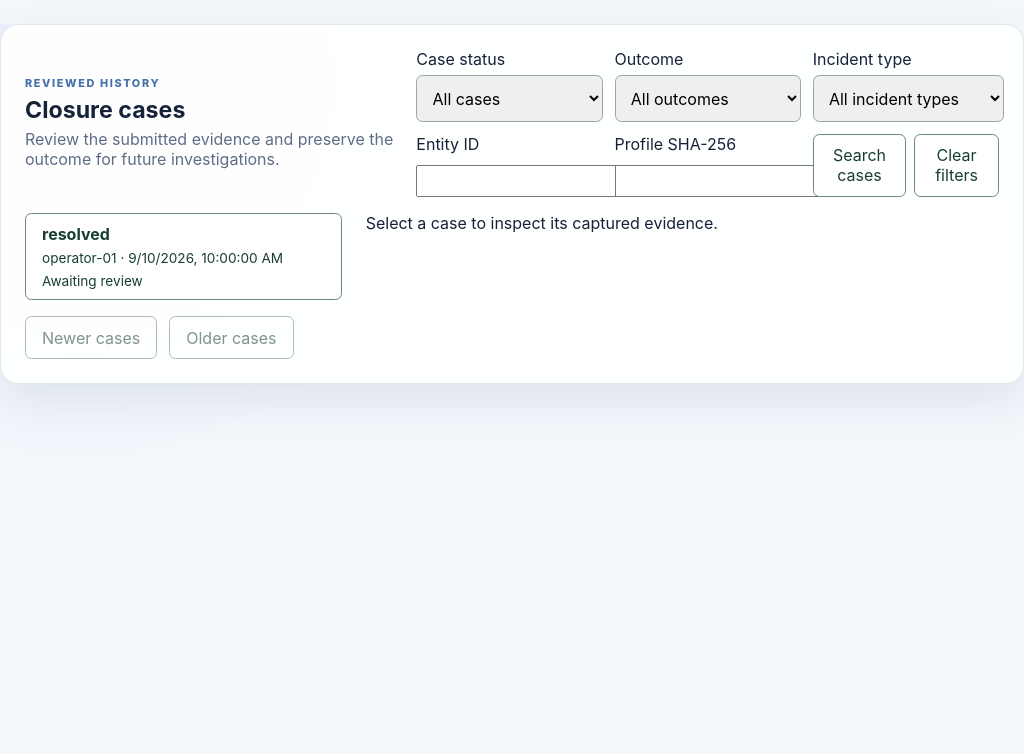
Test case: does not offer self-review even to an admin
Click the button "resolved" at point(183, 256), box [25,212,342,300]
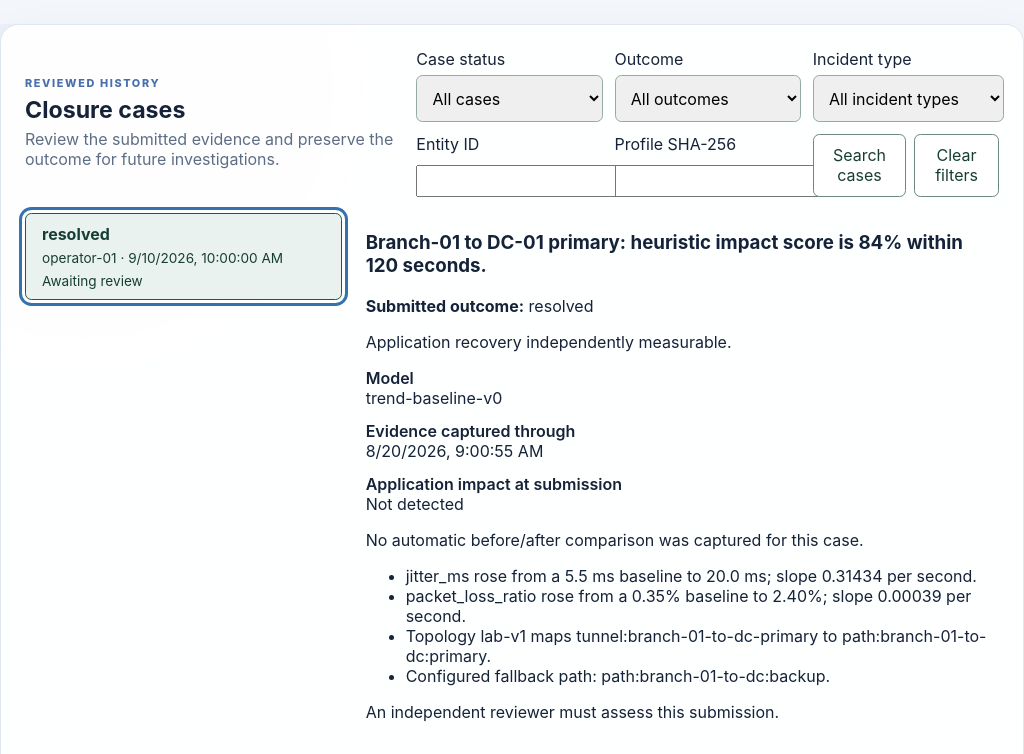
Result: the text "An independent reviewer must assess this submission." is shown at [366,702,779,722]
